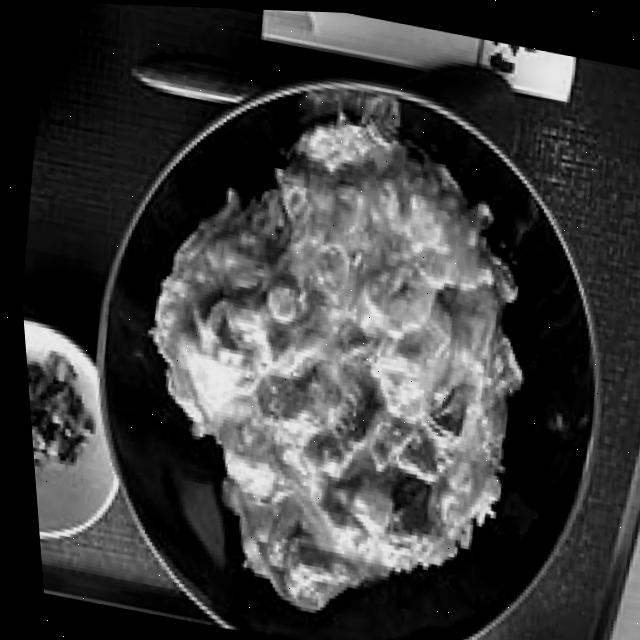米饭主食: (36, 34, 640, 640)
